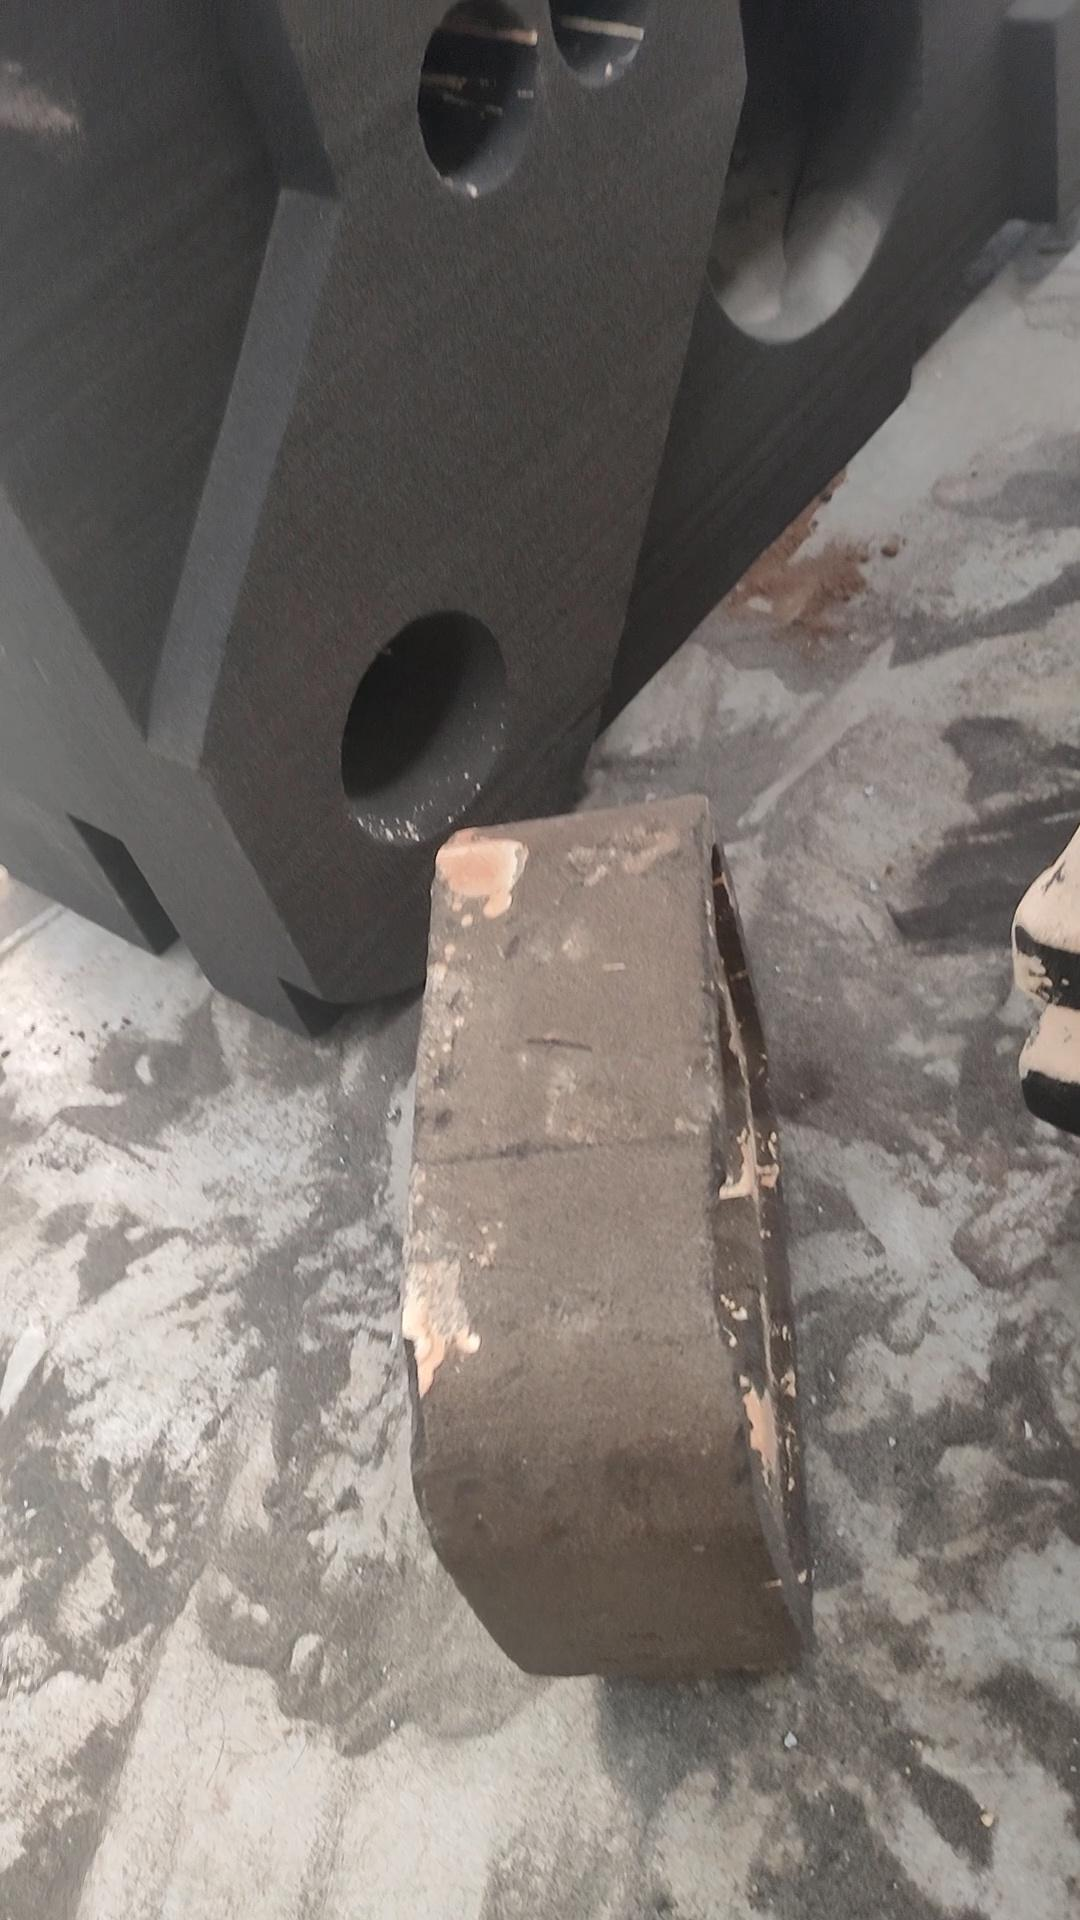pouring hole: (340, 611, 514, 841)
